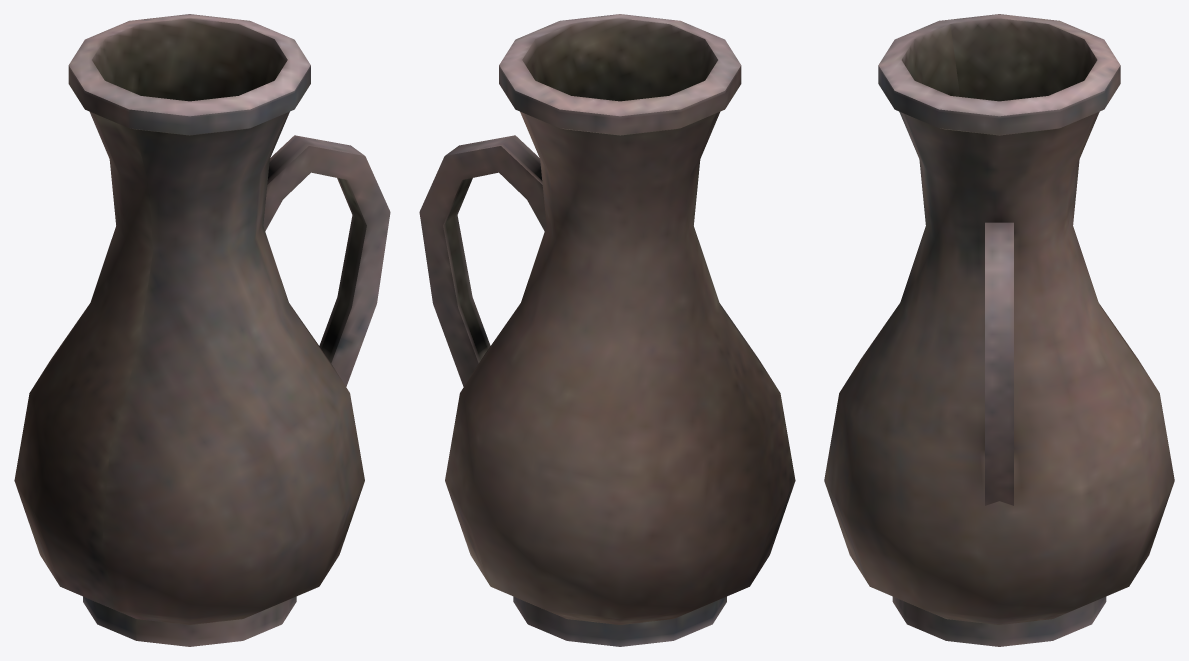
Rendered from Jar_T02.FBX.
3 renders of one model, left to right at view 1: azimuth 30°, elevation 25°; view 2: azimuth 150°, elevation 25°; view 3: azimuth 270°, elevation 25°, orthographic.
Parts seen in each view (by area): view 1: Jar_T02; view 2: Jar_T02; view 3: Jar_T02.
Boxes of the visible parts, x1,y1,x2,y2 form: Jar_T02: (14,14,390,646); Jar_T02: (419,14,795,646); Jar_T02: (824,14,1174,646).
Bounding box in the file's own units: 20.77 × 31.14 × 18.26.
